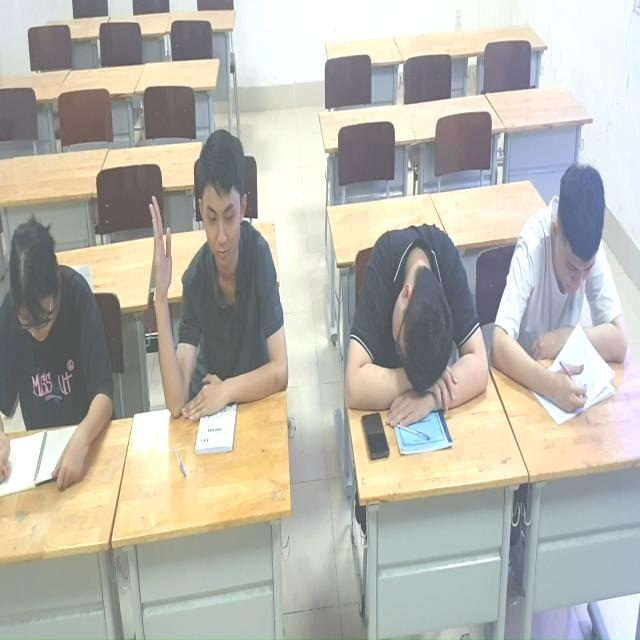raise_hand: (149, 122, 290, 425)
read: (497, 155, 633, 422), (1, 215, 123, 499)
sleep: (340, 206, 489, 435)
